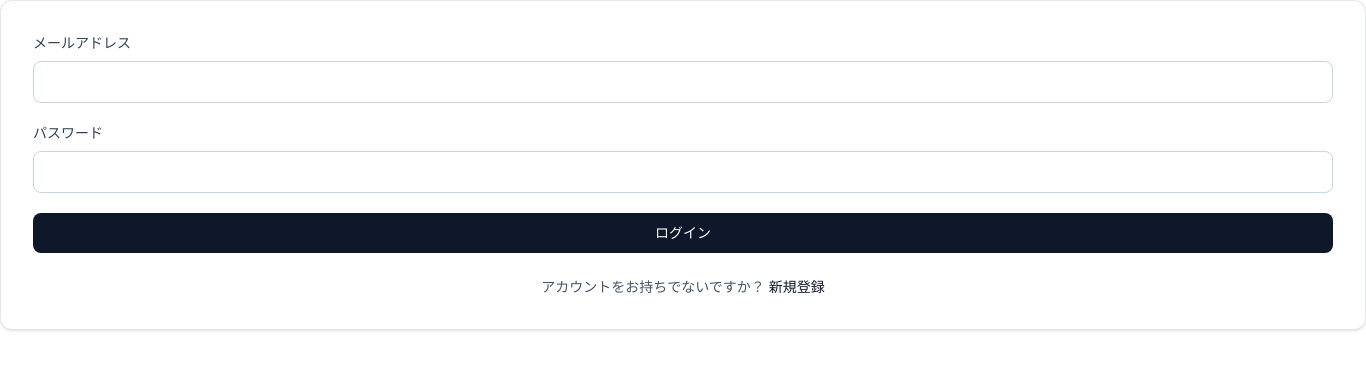
LoginForm › 無効なメールアドレスを拒否する
The width and height of the screenshot is (1366, 372).
Step 1. Type "invalid-email" into the field labelled "メールアドレス" → [683, 82], box [33, 61, 1333, 103]
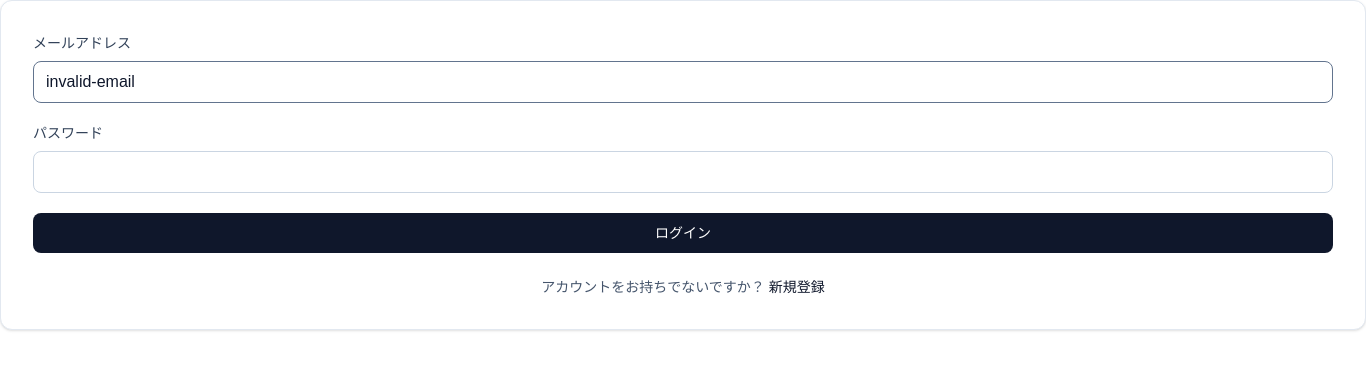
Step 2. Type "password123" into the password field labelled "パスワード" → [683, 172], box [33, 151, 1333, 193]
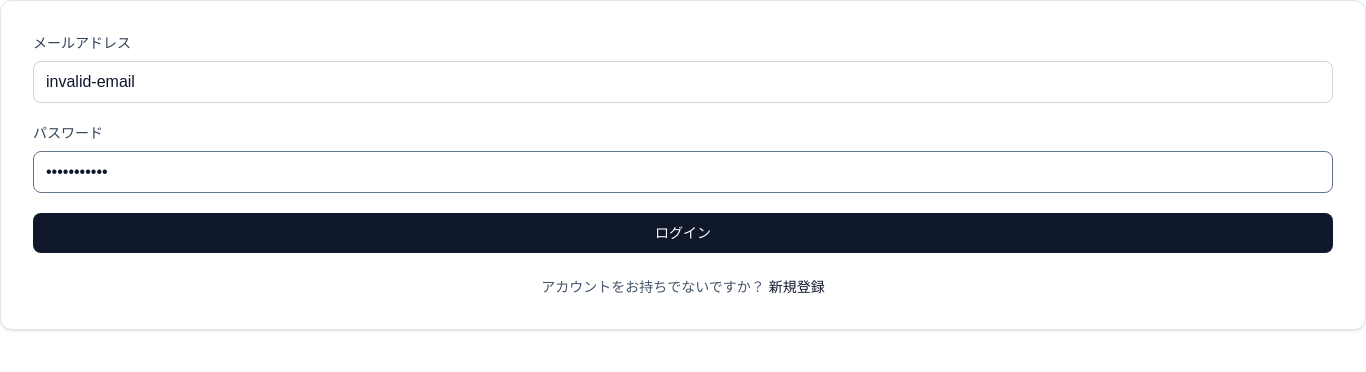
Step 3. Click the button "ログイン" → [683, 233], box [33, 213, 1333, 253]
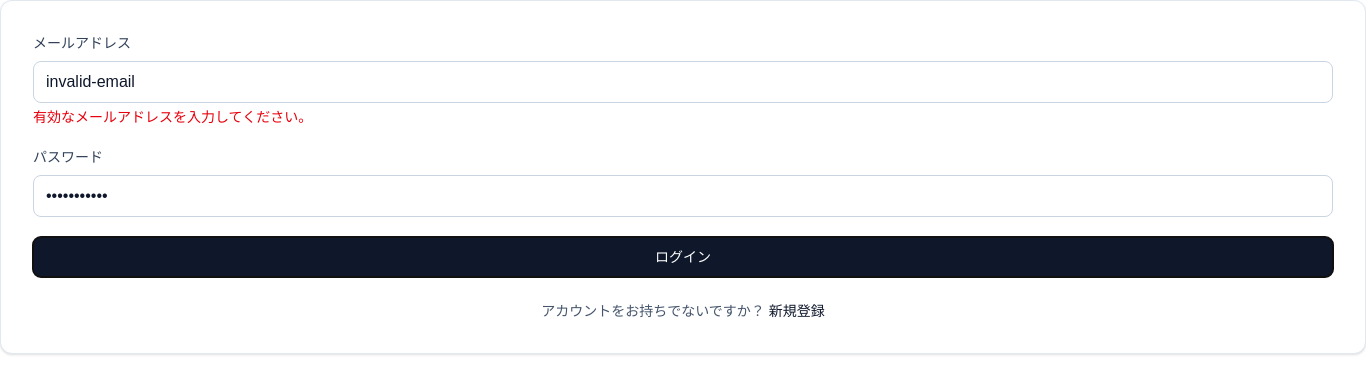
Check: the text "有効なメールアドレスを入力してください。" is shown, box [33, 109, 312, 125]
